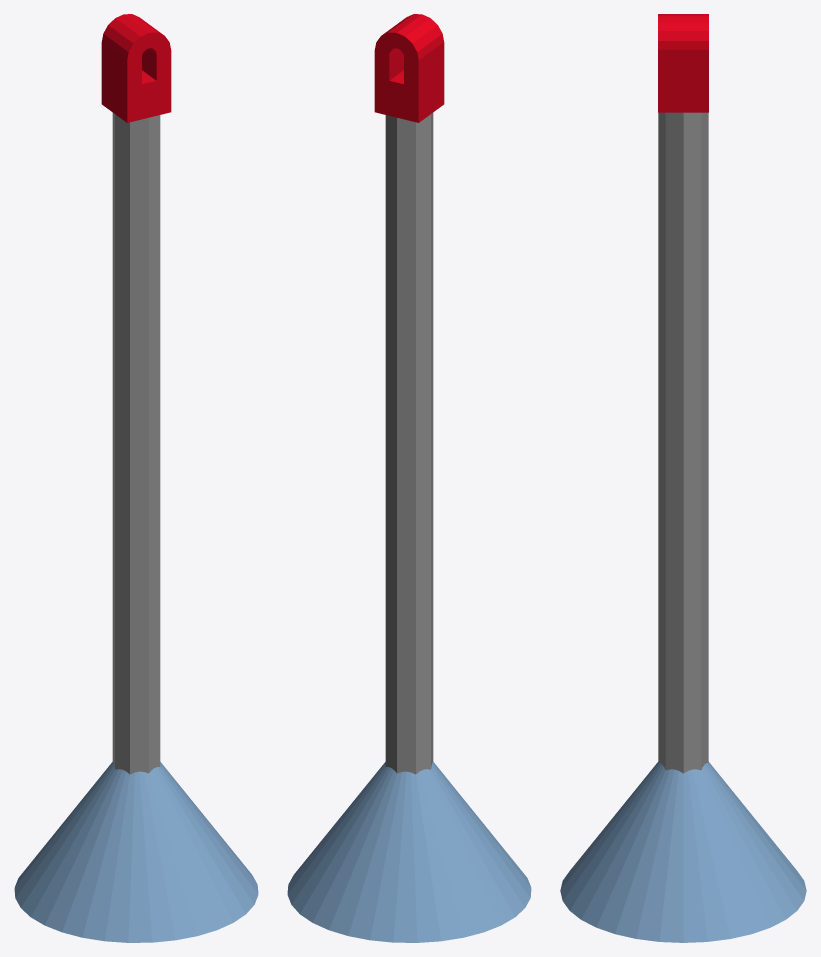
File: dweil.fbx
3 renders of one model, left to right at view 1: azimuth 30°, elevation 25°; view 2: azimuth 150°, elevation 25°; view 3: azimuth 270°, elevation 25°, orthographic.
Visible parts, largest first — view 1: Cylinder, Cone, Cube; view 2: Cylinder, Cone, Cube; view 3: Cylinder, Cone, Cube.
Boxes of the visible parts, x1=… form: Cylinder: x1=112, y1=113, x2=160, y2=774; Cone: x1=14, y1=762, x2=258, y2=942; Cube: x1=101, y1=14, x2=171, y2=122; Cylinder: x1=385, y1=113, x2=433, y2=774; Cone: x1=287, y1=762, x2=531, y2=942; Cube: x1=374, y1=14, x2=444, y2=122; Cylinder: x1=658, y1=112, x2=708, y2=773; Cone: x1=560, y1=762, x2=806, y2=942; Cube: x1=658, y1=14, x2=708, y2=112.
Bounding box in the file's own units: 17 × 66.59 × 17.
